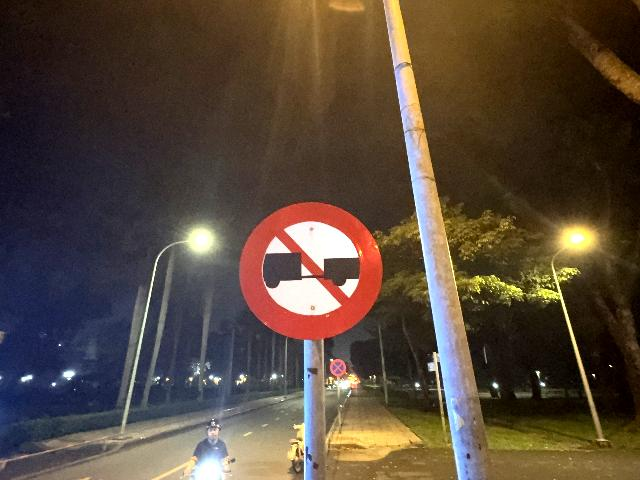cam-xe-somi-romooc: (238, 201, 383, 340)
